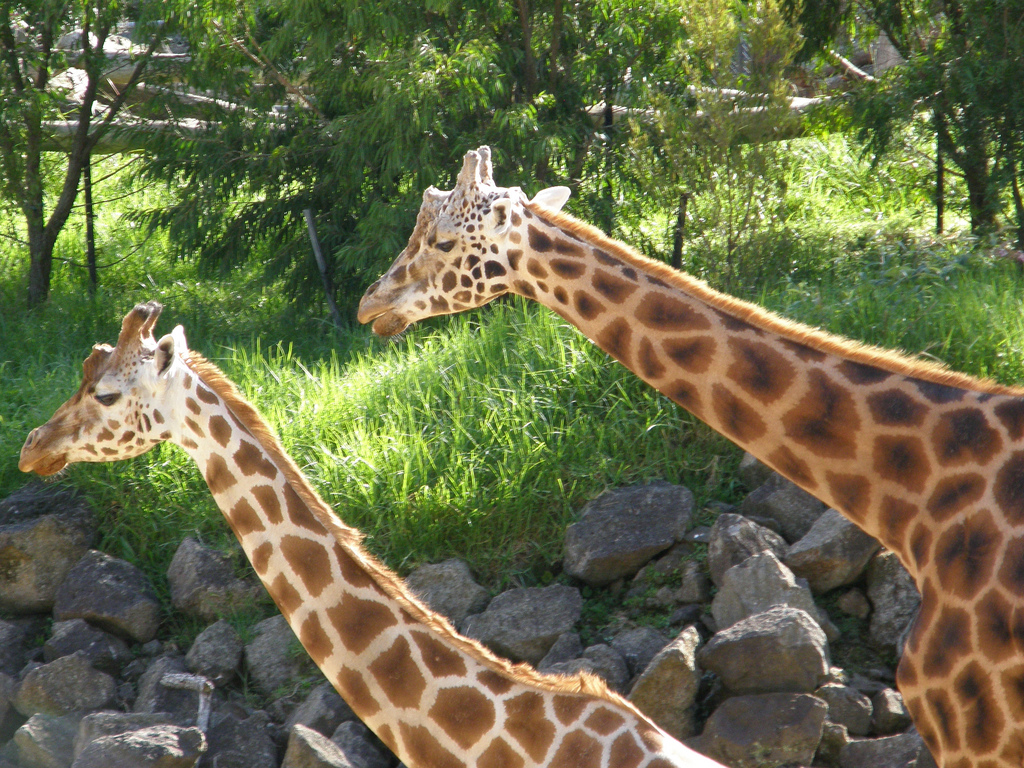giraffe: (338, 139, 978, 605), (23, 300, 613, 768)
